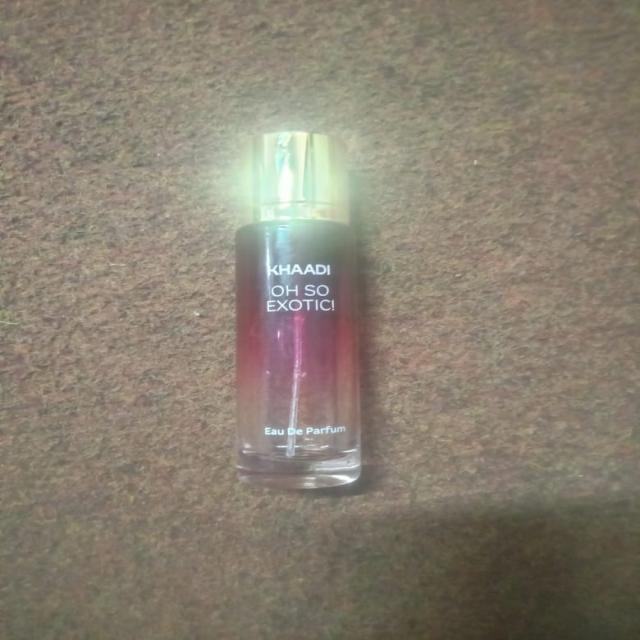perfume: (208, 97, 400, 533)
